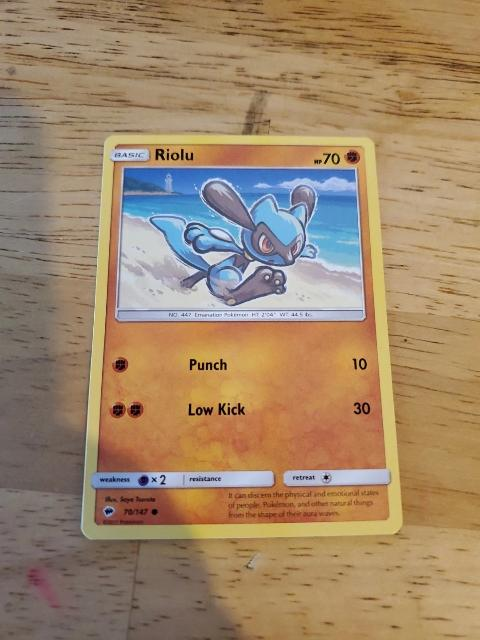Card: (77, 130, 407, 544)
Name: (153, 145, 197, 165)
